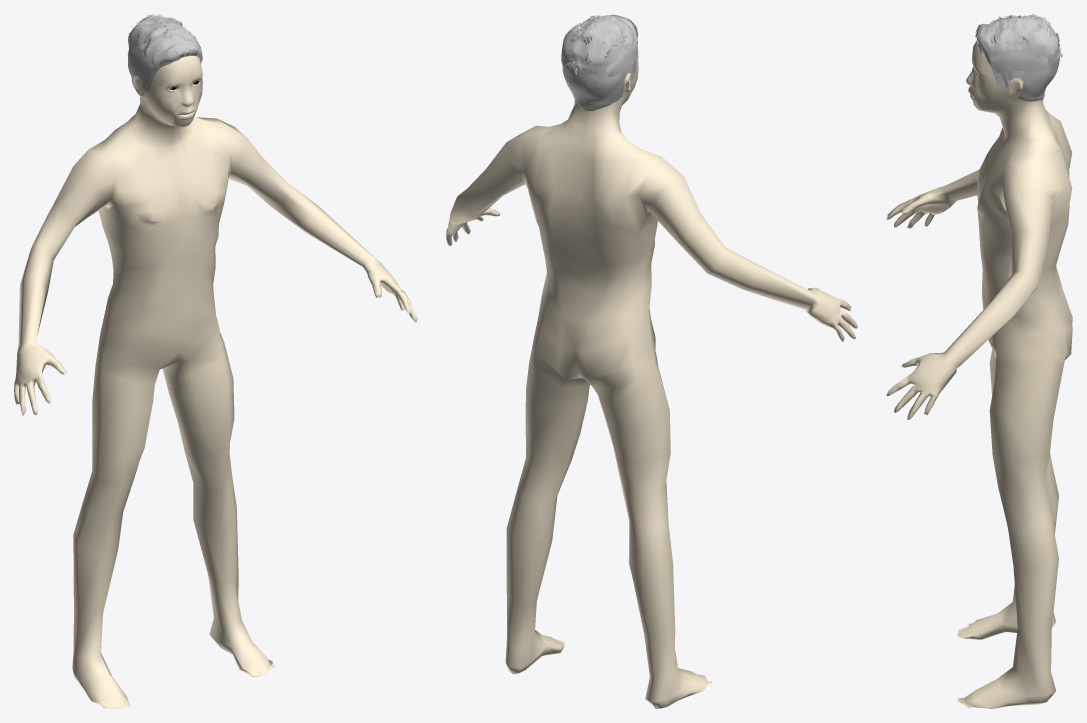
File: npc04.fbx
3 views of the same model, side by side, from view 1: azimuth 30°, elevation 25°; view 2: azimuth 150°, elevation 25°; view 3: azimuth 270°, elevation 25° (orthographic).
Parts seen in each view (by area): view 1: female1605Mesh, short01Mesh; view 2: female1605Mesh, short01Mesh; view 3: female1605Mesh, short01Mesh.
Boxes of the visible parts, x1,y1,x2,y2 form: female1605Mesh: [14, 56, 417, 708]; short01Mesh: [127, 14, 202, 97]; female1605Mesh: [446, 52, 857, 708]; short01Mesh: [561, 14, 637, 110]; female1605Mesh: [886, 40, 1072, 708]; short01Mesh: [975, 14, 1062, 101].
Size of the model in its own units: 10.63 by 16.81 by 4.36.
